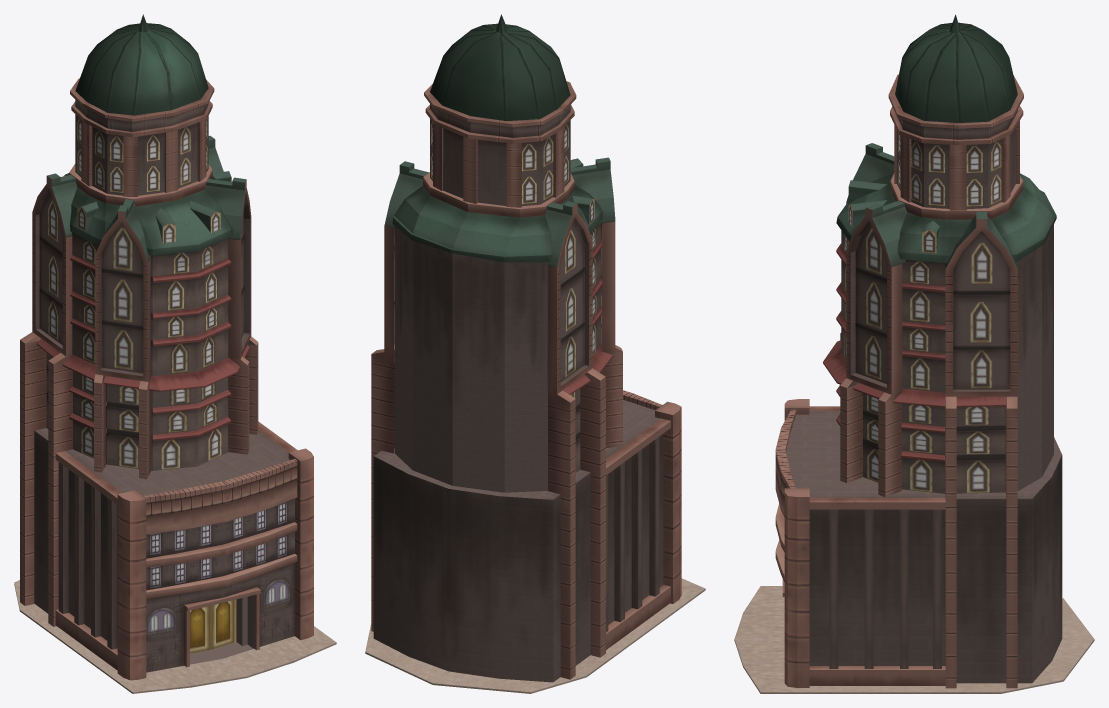
Rendered from HeightTower.FBX.
3 renders of one model, left to right at view 1: azimuth 30°, elevation 25°; view 2: azimuth 150°, elevation 25°; view 3: azimuth 270°, elevation 25°, orthographic. The views are drawn at different scales.
Visible parts, largest first — view 1: HeightTower; view 2: HeightTower; view 3: HeightTower.
Part boxes in pixels (bbox=[...]): HeightTower: bbox=[14, 14, 336, 693]; HeightTower: bbox=[365, 14, 705, 693]; HeightTower: bbox=[734, 14, 1094, 693].
Bounding box in the file's own units: 673 × 1855 × 965.
